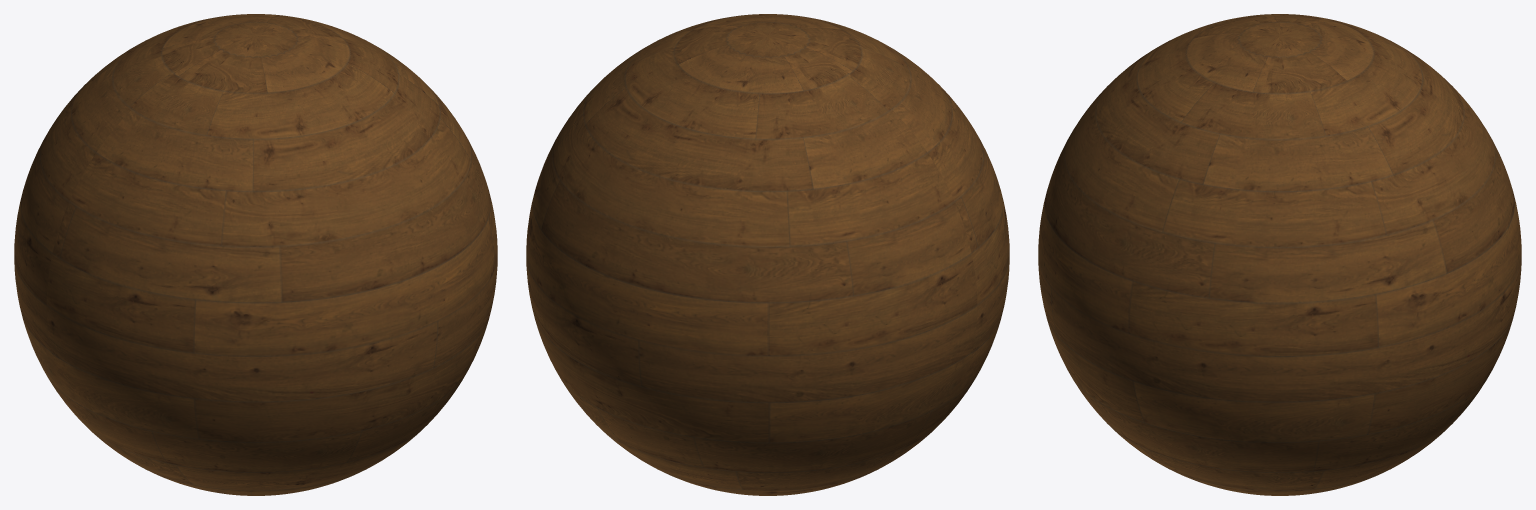
File: Wood_05.glb
3 renders of one model, left to right at view 1: azimuth 30°, elevation 25°; view 2: azimuth 150°, elevation 25°; view 3: azimuth 270°, elevation 25°, orthographic.
Visible parts, largest first — view 1: world; view 2: world; view 3: world.
Boxes of the visible parts, <box> form: world: <box>14,14,497,495</box>; world: <box>526,14,1009,495</box>; world: <box>1038,14,1521,495</box>.
Size of the model in its own units: 0.6366 by 0.6366 by 0.6366.
Materials: 1 (1 with a texture image).
